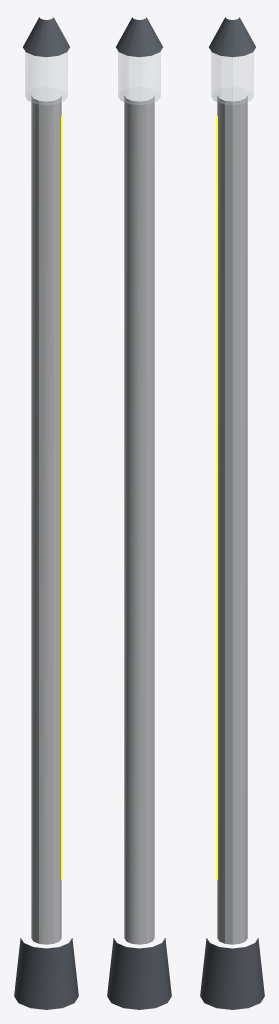
File: ext_street_light_pole_03.glb
3 renders of one model, left to right at view 1: azimuth 90°, elevation 25°; view 2: azimuth 150°, elevation 25°; view 3: azimuth 270°, elevation 25°, orthographic.
Visible parts, largest first — view 1: Pole, Base, Head_Glass, Seam, Cap; view 2: Pole, Base, Head_Glass, Cap; view 3: Pole, Base, Head_Glass, Seam, Cap.
Boxes of the visible parts, <box> form: Pole: <box>31,96,61,944</box>; Base: <box>14,938,78,1009</box>; Head_Glass: <box>25,52,67,105</box>; Seam: <box>61,116,62,879</box>; Cap: <box>23,17,69,57</box>; Pole: <box>124,96,154,944</box>; Base: <box>107,938,171,1009</box>; Head_Glass: <box>118,52,160,105</box>; Cap: <box>116,17,162,57</box>; Pole: <box>217,96,247,944</box>; Base: <box>200,938,264,1009</box>; Head_Glass: <box>211,52,253,105</box>; Seam: <box>216,116,217,879</box>; Cap: <box>209,17,255,57</box>.
Size of the model in its own units: 0.3 by 5 by 0.3.
